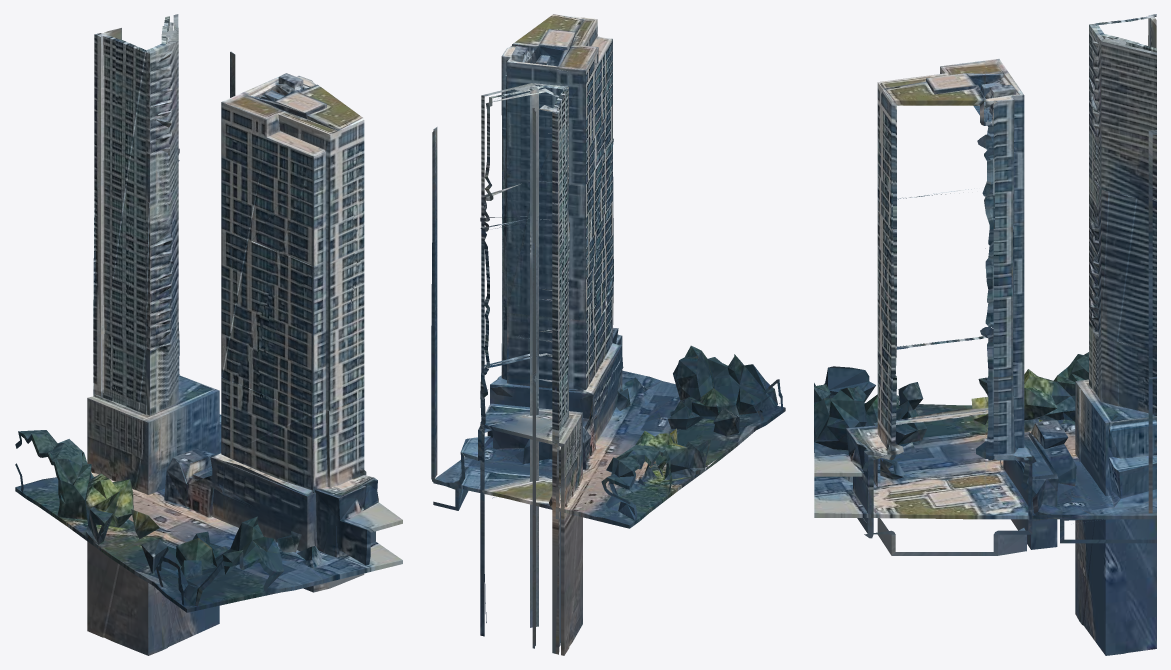
The model's file is chunk_9_0.glb.
The picture shows the model from 3 angles, left to right: view 1: azimuth 30°, elevation 25°; view 2: azimuth 150°, elevation 25°; view 3: azimuth 270°, elevation 25°; orthographic projection. The views are drawn at different scales.
Parts seen in each view (by area): view 1: hero-chunk; view 2: hero-chunk; view 3: hero-chunk.
Part boxes in pixels (x1,y1,x2,y2): hero-chunk: [15, 14, 402, 655]; hero-chunk: [431, 14, 785, 655]; hero-chunk: [814, 14, 1156, 655].
Bounding box in the file's own units: 56.66 × 146 × 76.33.
3 materials, 3 textured.
